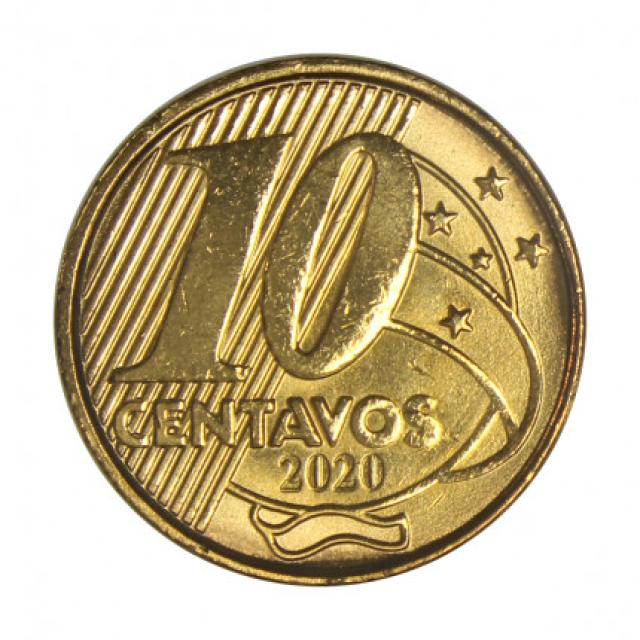10 cent: (55, 51, 588, 584)
